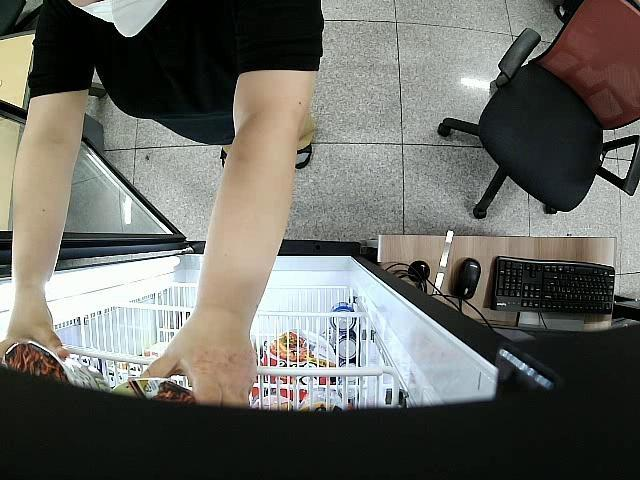03_chapagetti_L: (0, 338, 109, 393), (111, 376, 198, 405)
